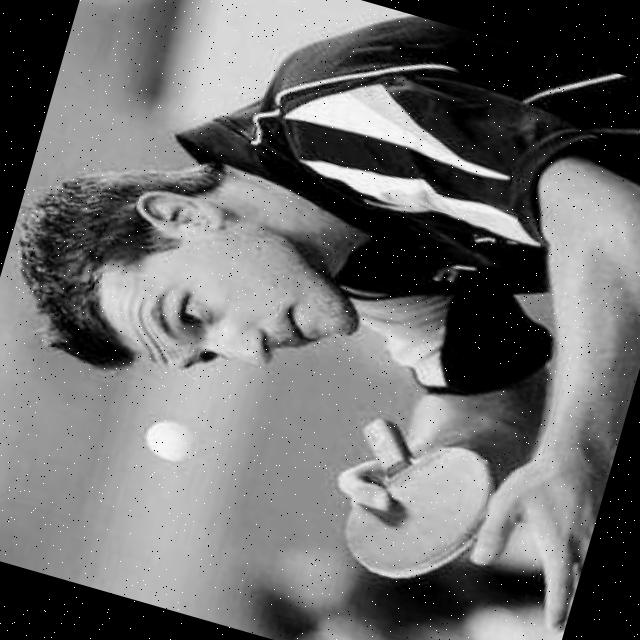ping-pong-ball: (132, 406, 204, 468)
